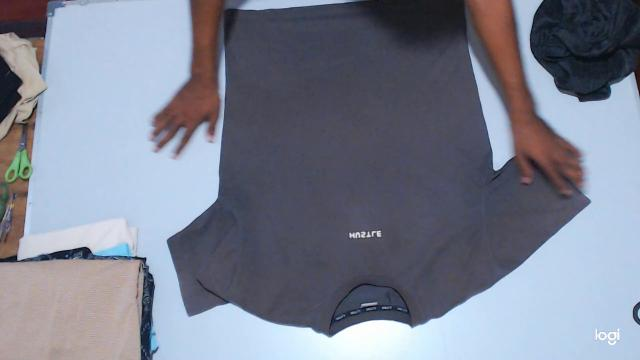new-garment: (169, 0, 589, 333)
